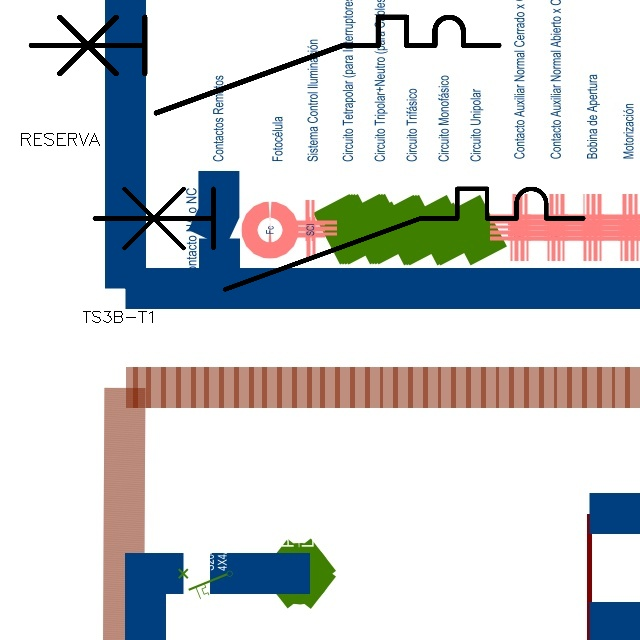interruptor_termomagnetico: (82, 176, 596, 302), (19, 5, 511, 125)
